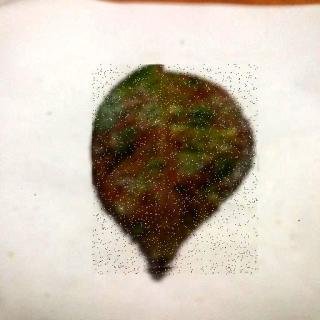Red Leaf Spot: (94, 66, 260, 276)
